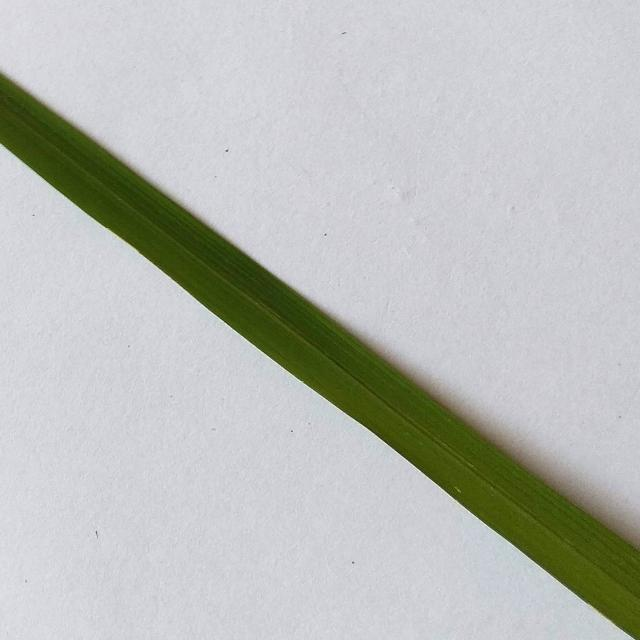Rice_Healthy: (0, 73, 640, 640)
